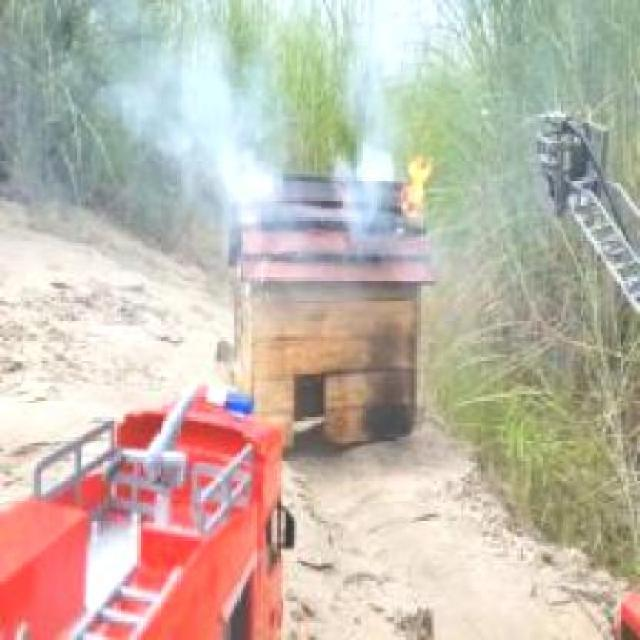Fire: (393, 147, 438, 229)
Smoke: (75, 0, 392, 235)
